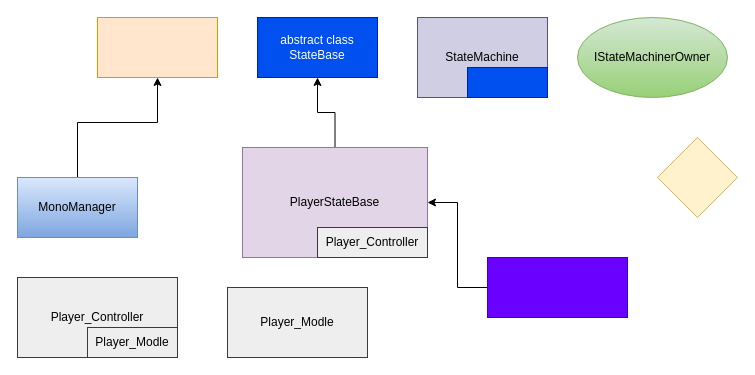
Some shapes in this 755 by 375 pixel diagram are drawn without their labels. The box of each missing label's shape, as (x1, y1, x2, y2) in pixels:
Player_IdleState ···: (486, 256, 628, 318)
PlayerState: (656, 136, 738, 218)
SingletonMono: (96, 16, 218, 78)
StateBase: (466, 66, 548, 98)
